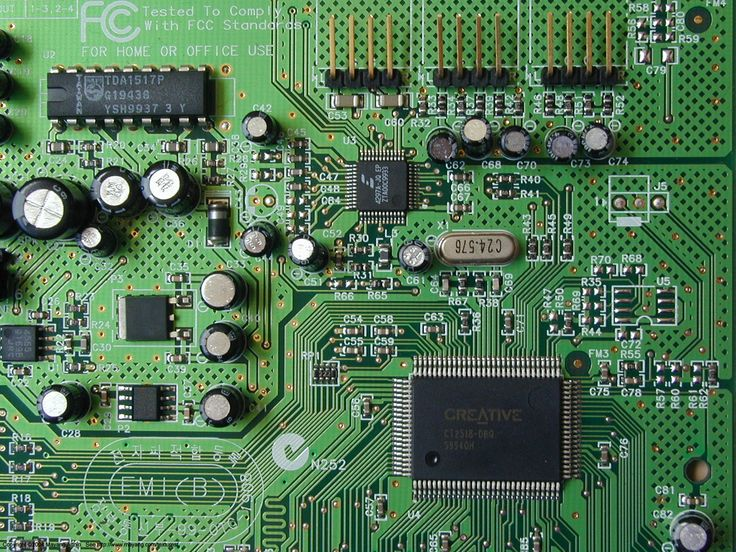capacitor: (13, 170, 82, 241), (84, 160, 144, 227), (140, 161, 200, 221), (196, 378, 250, 438), (30, 381, 94, 427), (453, 111, 499, 172), (195, 267, 252, 316), (414, 122, 462, 179), (539, 117, 581, 180), (577, 117, 622, 175), (196, 320, 251, 365), (240, 213, 279, 267), (498, 123, 539, 174), (285, 227, 328, 274), (391, 236, 436, 277), (236, 104, 280, 144), (76, 223, 120, 262)
